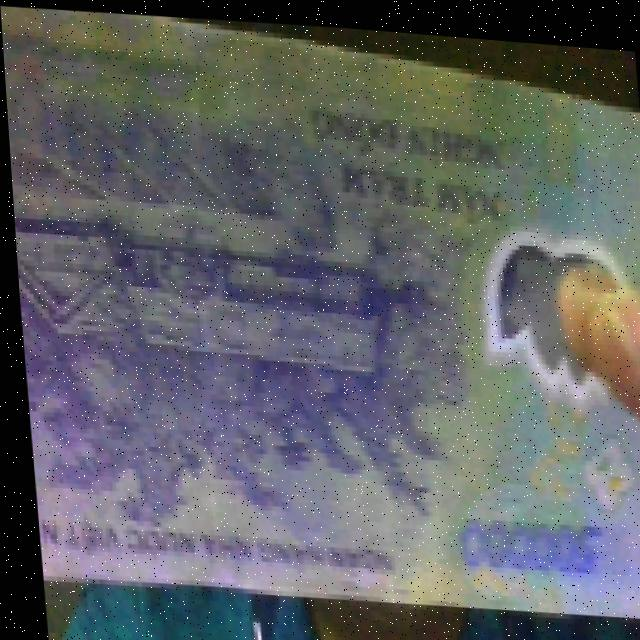500 000 VND: (0, 0, 640, 625)
